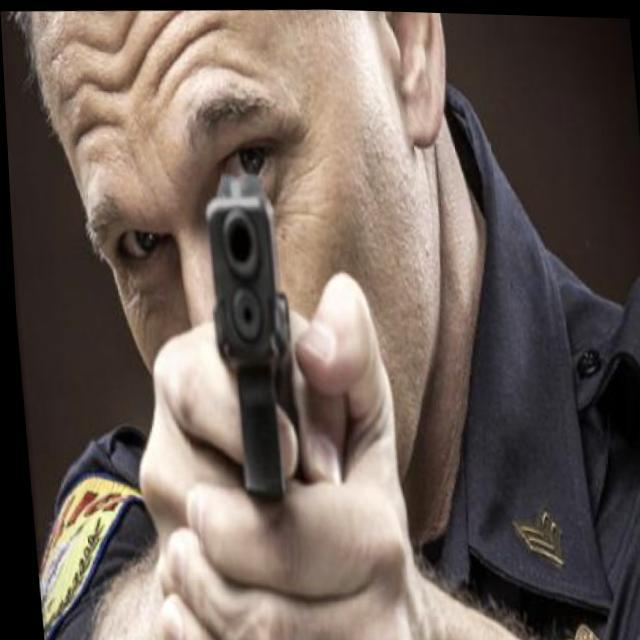weapon: (180, 154, 340, 640)
